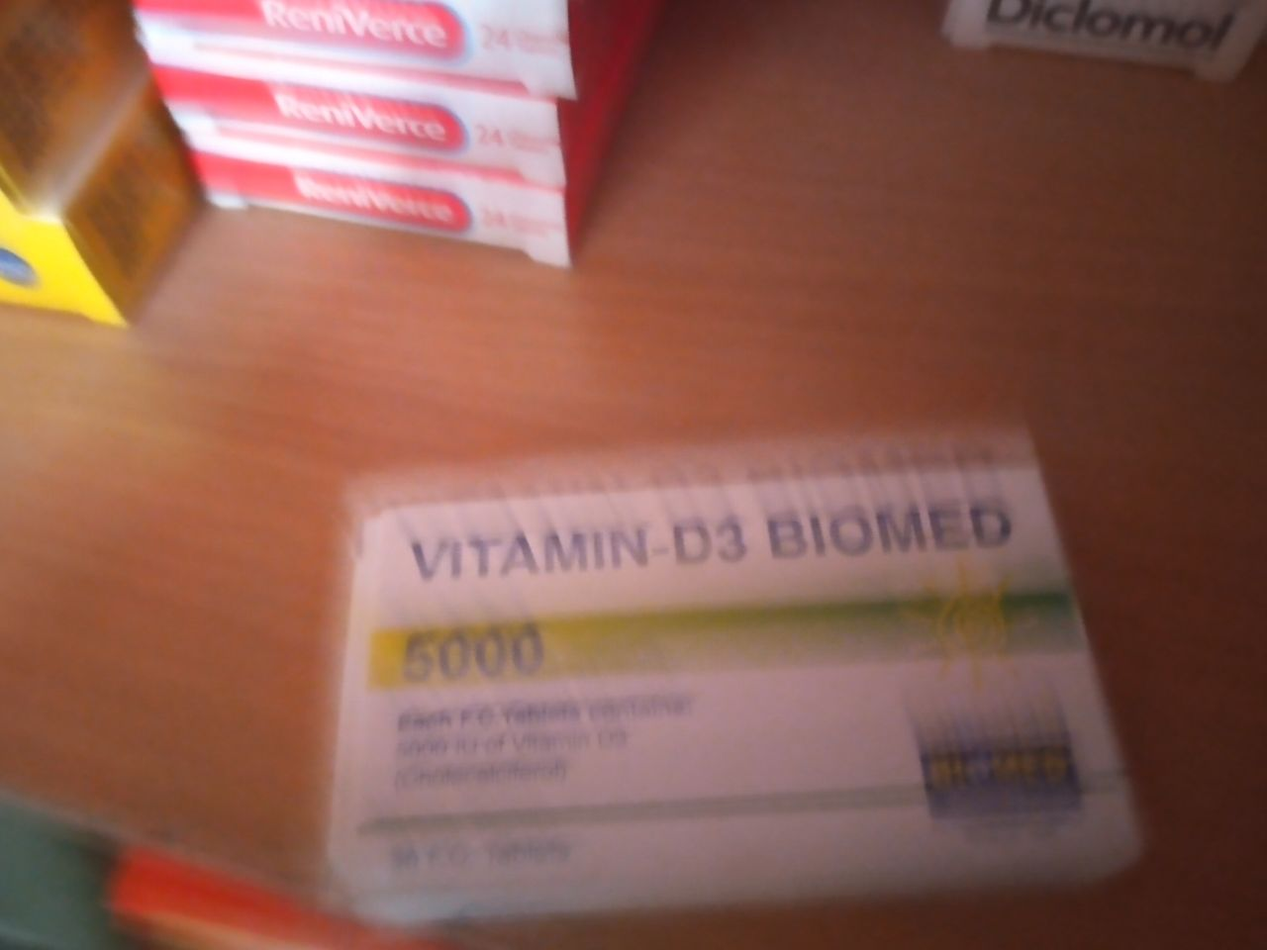Medicine: (339, 433, 1143, 945)
